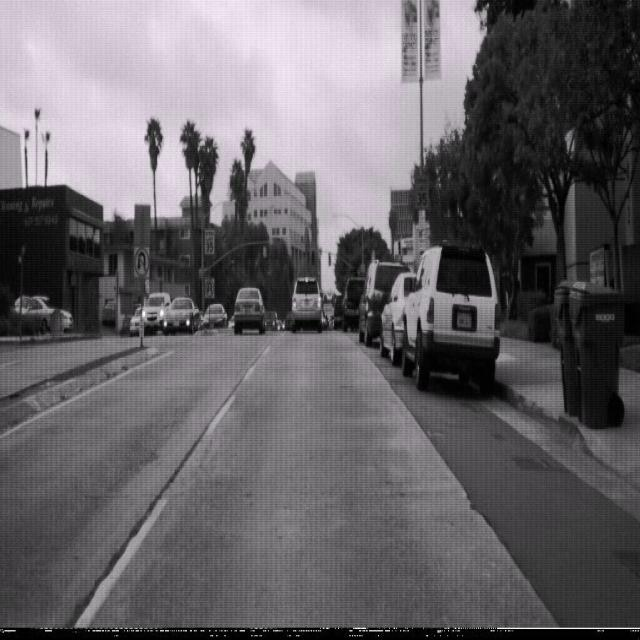speedLimit35: (414, 172, 429, 210), (204, 228, 215, 255)
